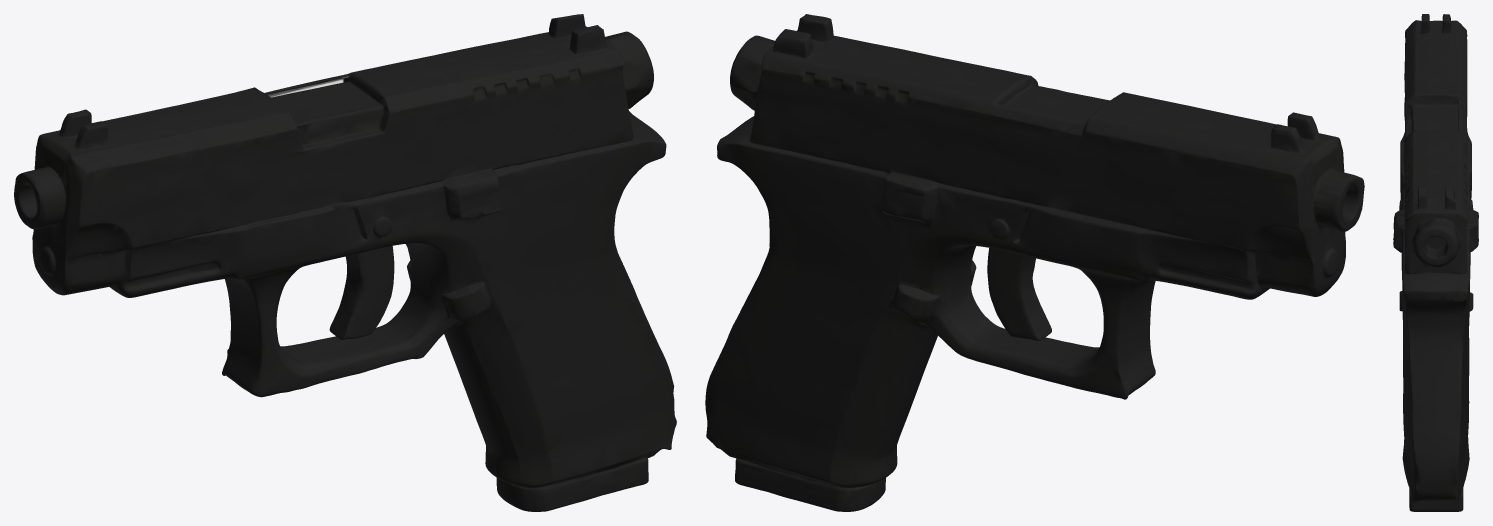
Rendered from pistol.glb.
3 renders of one model, left to right at view 1: azimuth 30°, elevation 25°; view 2: azimuth 150°, elevation 25°; view 3: azimuth 270°, elevation 25°, orthographic. The views are drawn at different scales.
Visible parts, largest first — view 1: geometry_0; view 2: geometry_0; view 3: geometry_0.
Boxes of the visible parts, x1=… form: geometry_0: x1=14, y1=14, x2=676, y2=511; geometry_0: x1=705, y1=14, x2=1364, y2=511; geometry_0: x1=1393, y1=14, x2=1478, y2=511.
Bounding box in the file's own units: 0.22 × 0.1609 × 0.0388.
1 material, 1 textured.
